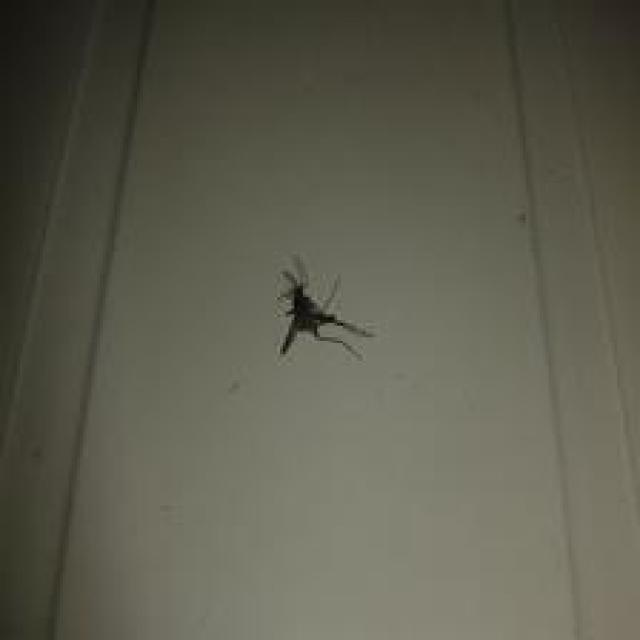Aedes albopictus: (274, 253, 374, 361)
